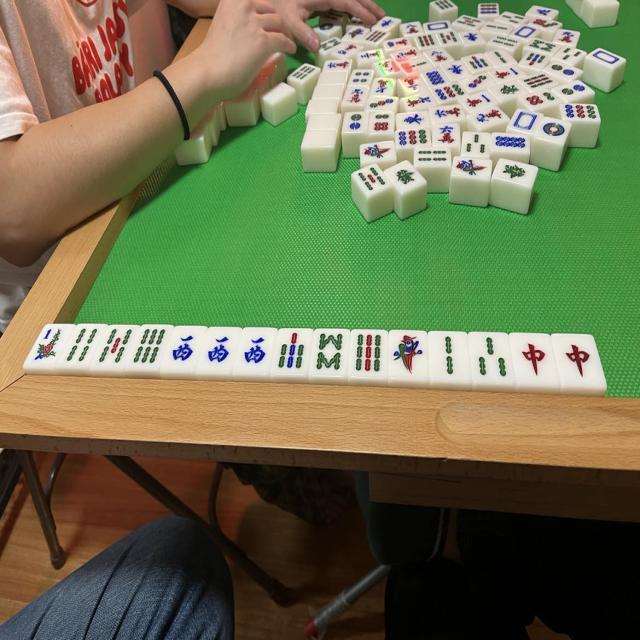bf1: (33, 324, 63, 368)
hdr: (514, 336, 552, 384), (561, 338, 595, 384)
hww: (204, 329, 234, 372), (240, 331, 270, 371), (168, 330, 198, 370)
sb1: (389, 332, 424, 379)
sb2: (430, 334, 468, 382)
sb3: (473, 335, 511, 383)
sb4: (67, 324, 100, 366)
sb5: (99, 326, 132, 368)
sb6: (134, 326, 168, 369)
sb7: (276, 331, 308, 374)
sb8: (316, 330, 348, 376)
sb9: (351, 332, 384, 378)
